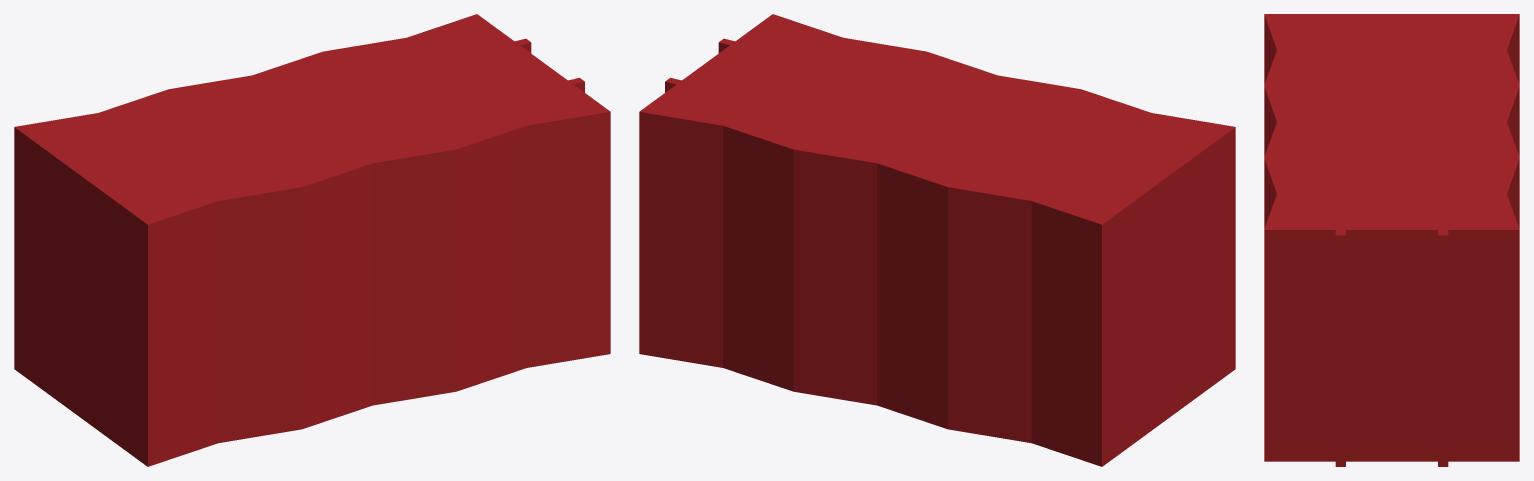
The model's file is container.gltf.
3 renders of one model, left to right at view 1: azimuth 30°, elevation 25°; view 2: azimuth 150°, elevation 25°; view 3: azimuth 270°, elevation 25°, orthographic. The views are drawn at different scales.
Visible parts, largest first — view 1: Container; view 2: Container; view 3: Container.
Boxes of the visible parts, x1=… form: Container: x1=14, y1=14, x2=610, y2=466; Container: x1=639, y1=14, x2=1235, y2=466; Container: x1=1264, y1=14, x2=1519, y2=466.
Size of the model in its own units: 8.2 by 4 by 4.
